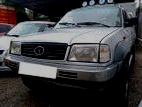car: (7, 3, 139, 107)
